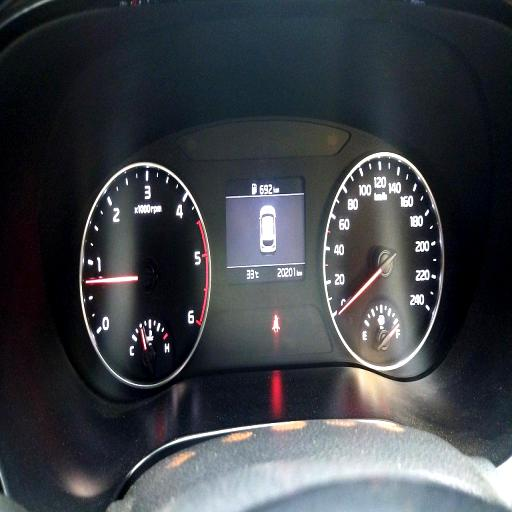belt: (272, 315, 280, 334)
tachometer: (77, 160, 214, 390)
